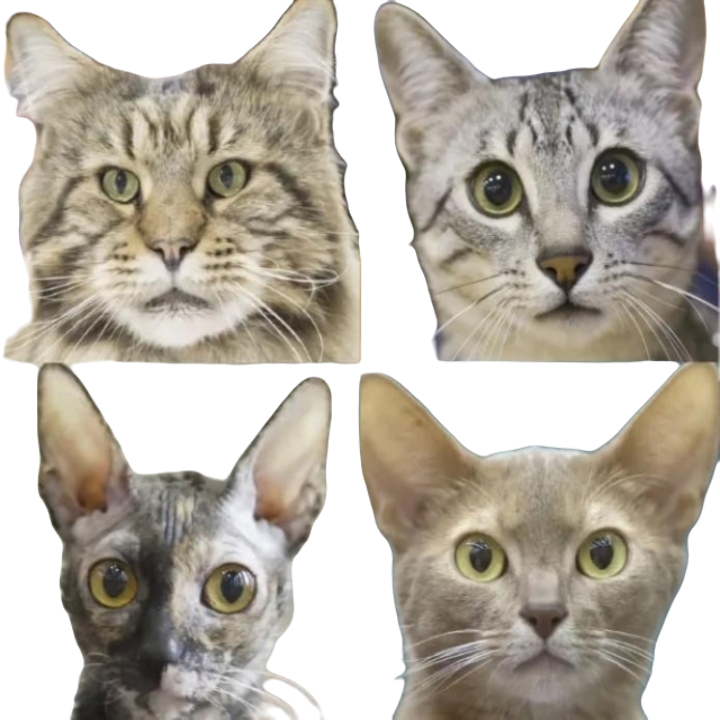Cat: (0, 7, 358, 364), (366, 0, 719, 362), (357, 373, 719, 719), (9, 371, 348, 719)
